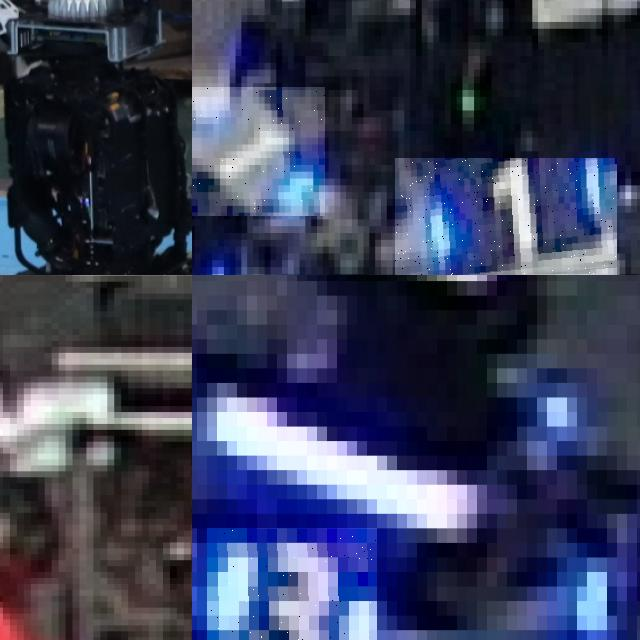B1: (395, 158, 616, 275), (192, 86, 325, 216)
B3: (207, 528, 377, 640)
